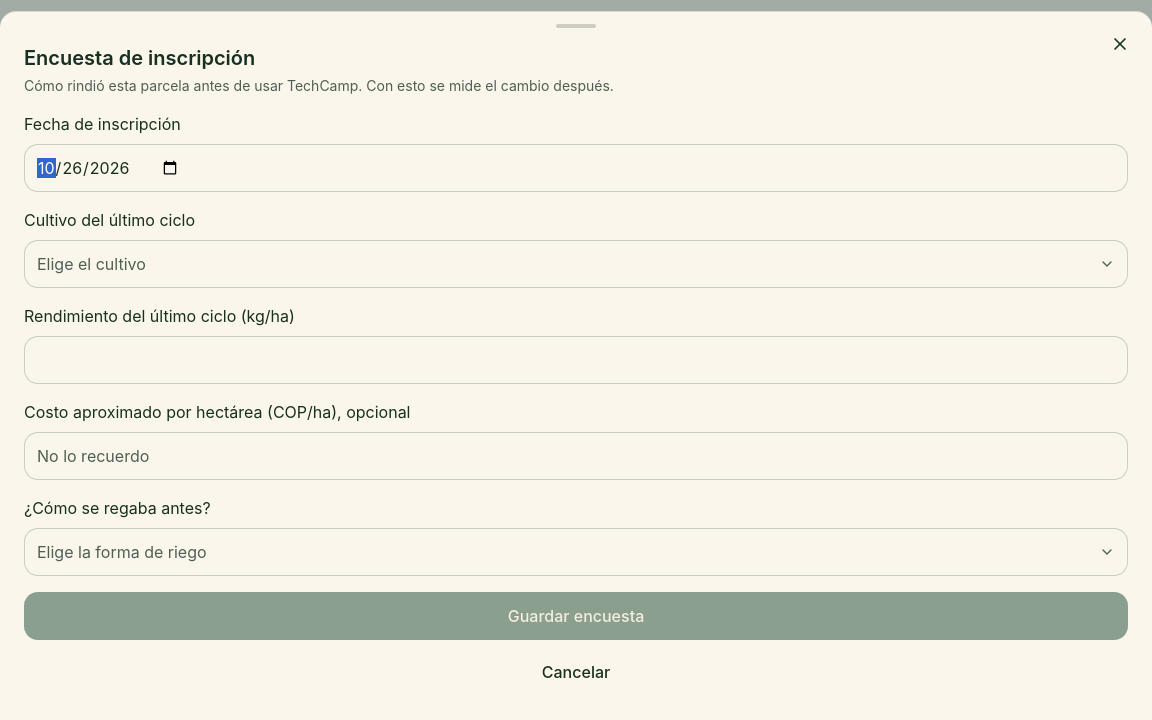
Test: BaselineSurvey › offers the four irrigation practices the server accepts, in plain Spanish
What coordinates should you click on to do the following:
click the dropdown named "¿Cómo se regaba antes?"
I would click on:
 (122, 552)
Its box is [24,528,1128,576].
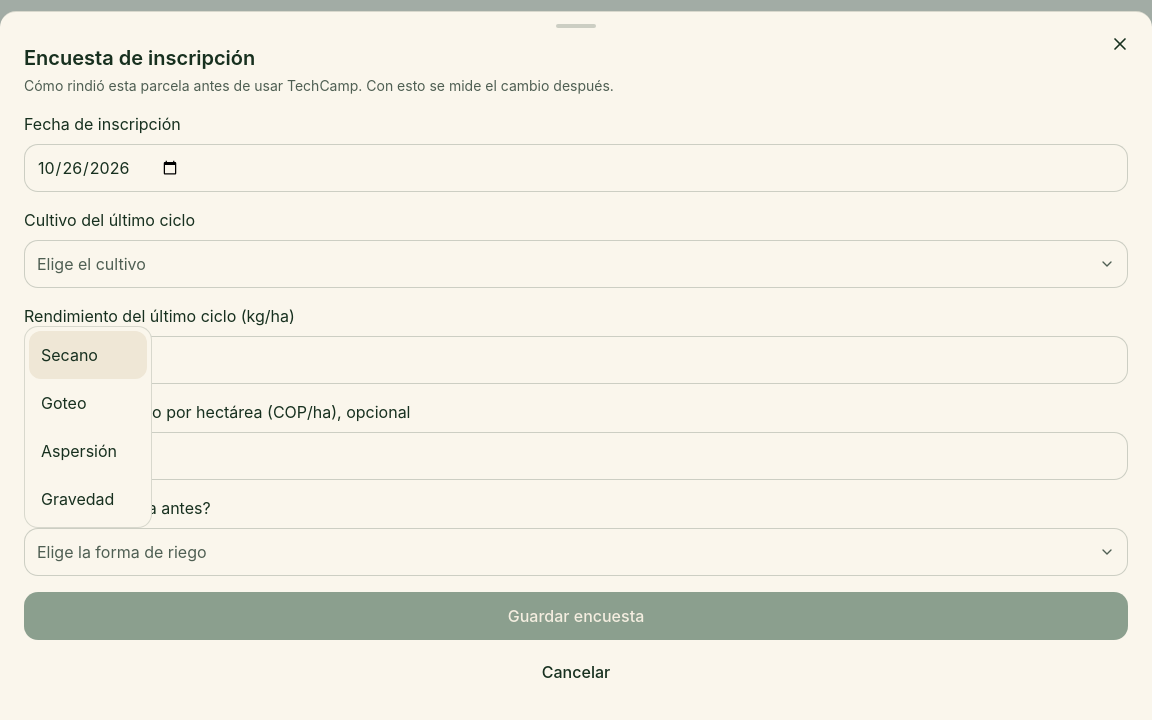
Expected: the option "Secano" is shown, [29,331,147,379]
Expected: the option "Goteo" is shown, [41,393,86,413]
Expected: the option "Aspersión" is shown, [41,441,117,461]
